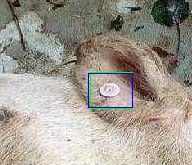text: (90, 72, 132, 108)
